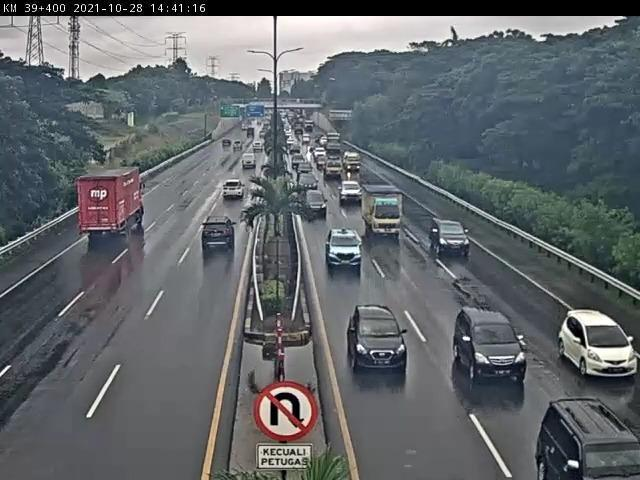car: (454, 309, 529, 386), (559, 309, 640, 379), (349, 306, 410, 376), (430, 218, 472, 261), (325, 228, 363, 271), (202, 216, 238, 252), (302, 190, 329, 218), (338, 180, 364, 204), (222, 180, 246, 200)
truck: (76, 167, 147, 237), (363, 186, 404, 238)
